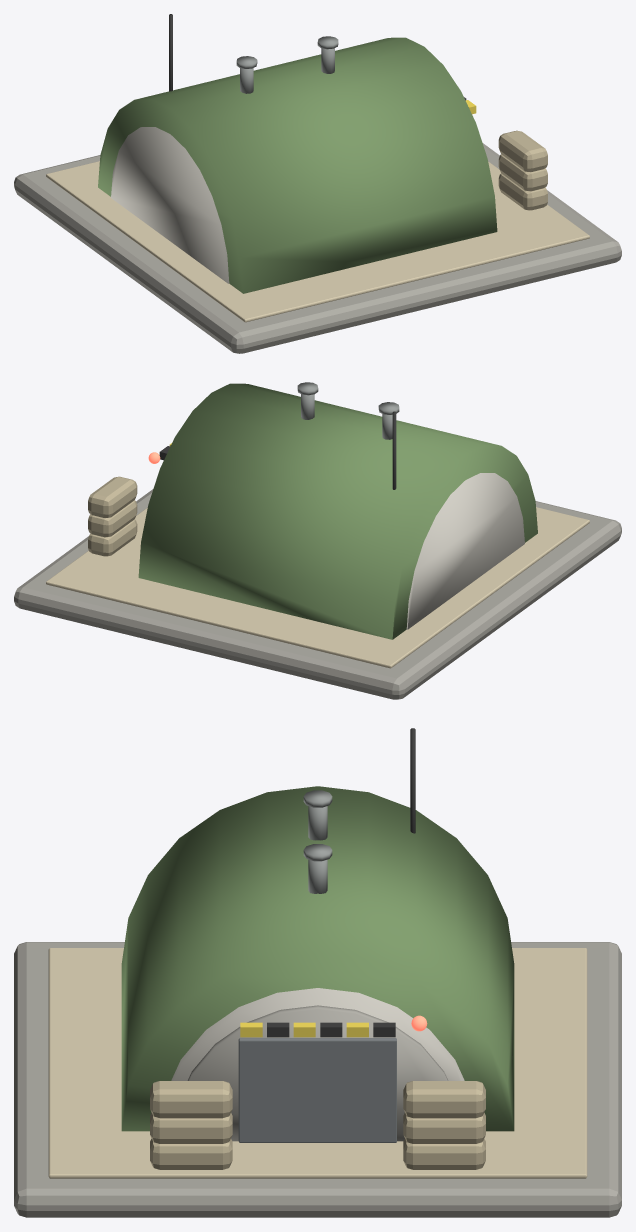
The model's file is hideout.glb.
The picture shows the model from 3 angles, top to bottom: view 1: azimuth 30°, elevation 25°; view 2: azimuth 150°, elevation 25°; view 3: azimuth 270°, elevation 25°; orthographic projection. The views are drawn at different scales.
Parts seen in each view (by area): view 1: Cylinder, Cube, Cube.001, Cylinder.001, Cube.011, Cube.010, Cube.009; view 2: Cylinder, Cube, Cube.001, Cylinder.001, Cube.014, Cube.012, Cube.013; view 3: Cylinder, Cube.001, Cube, Cube.002, Cylinder.002, Cylinder.001, Cube.011, Cube.014, Cube.009, Cube.012, Cube.010, Cube.013 (+2 smaller).
Boxes of the visible parts, left/top/right/bottom form: Cylinder: left=98, top=37, right=497, bottom=293; Cube: left=14, top=143, right=621, bottom=353; Cube.001: left=46, top=161, right=589, bottom=322; Cylinder.001: left=111, top=127, right=229, bottom=283; Cube.011: left=498, top=130, right=547, bottom=172; Cube.010: left=498, top=154, right=547, bottom=191; Cube.009: left=498, top=173, right=547, bottom=210; Cylinder: left=138, top=383, right=537, bottom=639; Cube: left=14, top=489, right=621, bottom=699; Cube.001: left=46, top=507, right=589, bottom=668; Cylinder.001: left=406, top=473, right=524, bottom=629; Cube.014: left=88, top=476, right=137, bottom=518; Cube.012: left=88, top=519, right=137, bottom=556; Cube.013: left=88, top=500, right=137, bottom=537; Cylinder: left=121, top=786, right=514, bottom=1131; Cube.001: left=48, top=948, right=587, bottom=1178; Cube: left=14, top=942, right=621, bottom=1217; Cube.002: left=238, top=1038, right=396, bottom=1142; Cylinder.002: left=187, top=1005, right=448, bottom=1141; Cylinder.001: left=171, top=988, right=464, bottom=1080; Cube.011: left=150, top=1081, right=232, bottom=1118; Cube.014: left=403, top=1081, right=485, bottom=1118; Cube.009: left=150, top=1138, right=232, bottom=1169; Cube.012: left=403, top=1138, right=485, bottom=1169; Cube.010: left=150, top=1113, right=232, bottom=1143; Cube.013: left=403, top=1113, right=485, bottom=1143.
Bounding box in the file's own units: 1.92 × 1.01 × 1.92.
